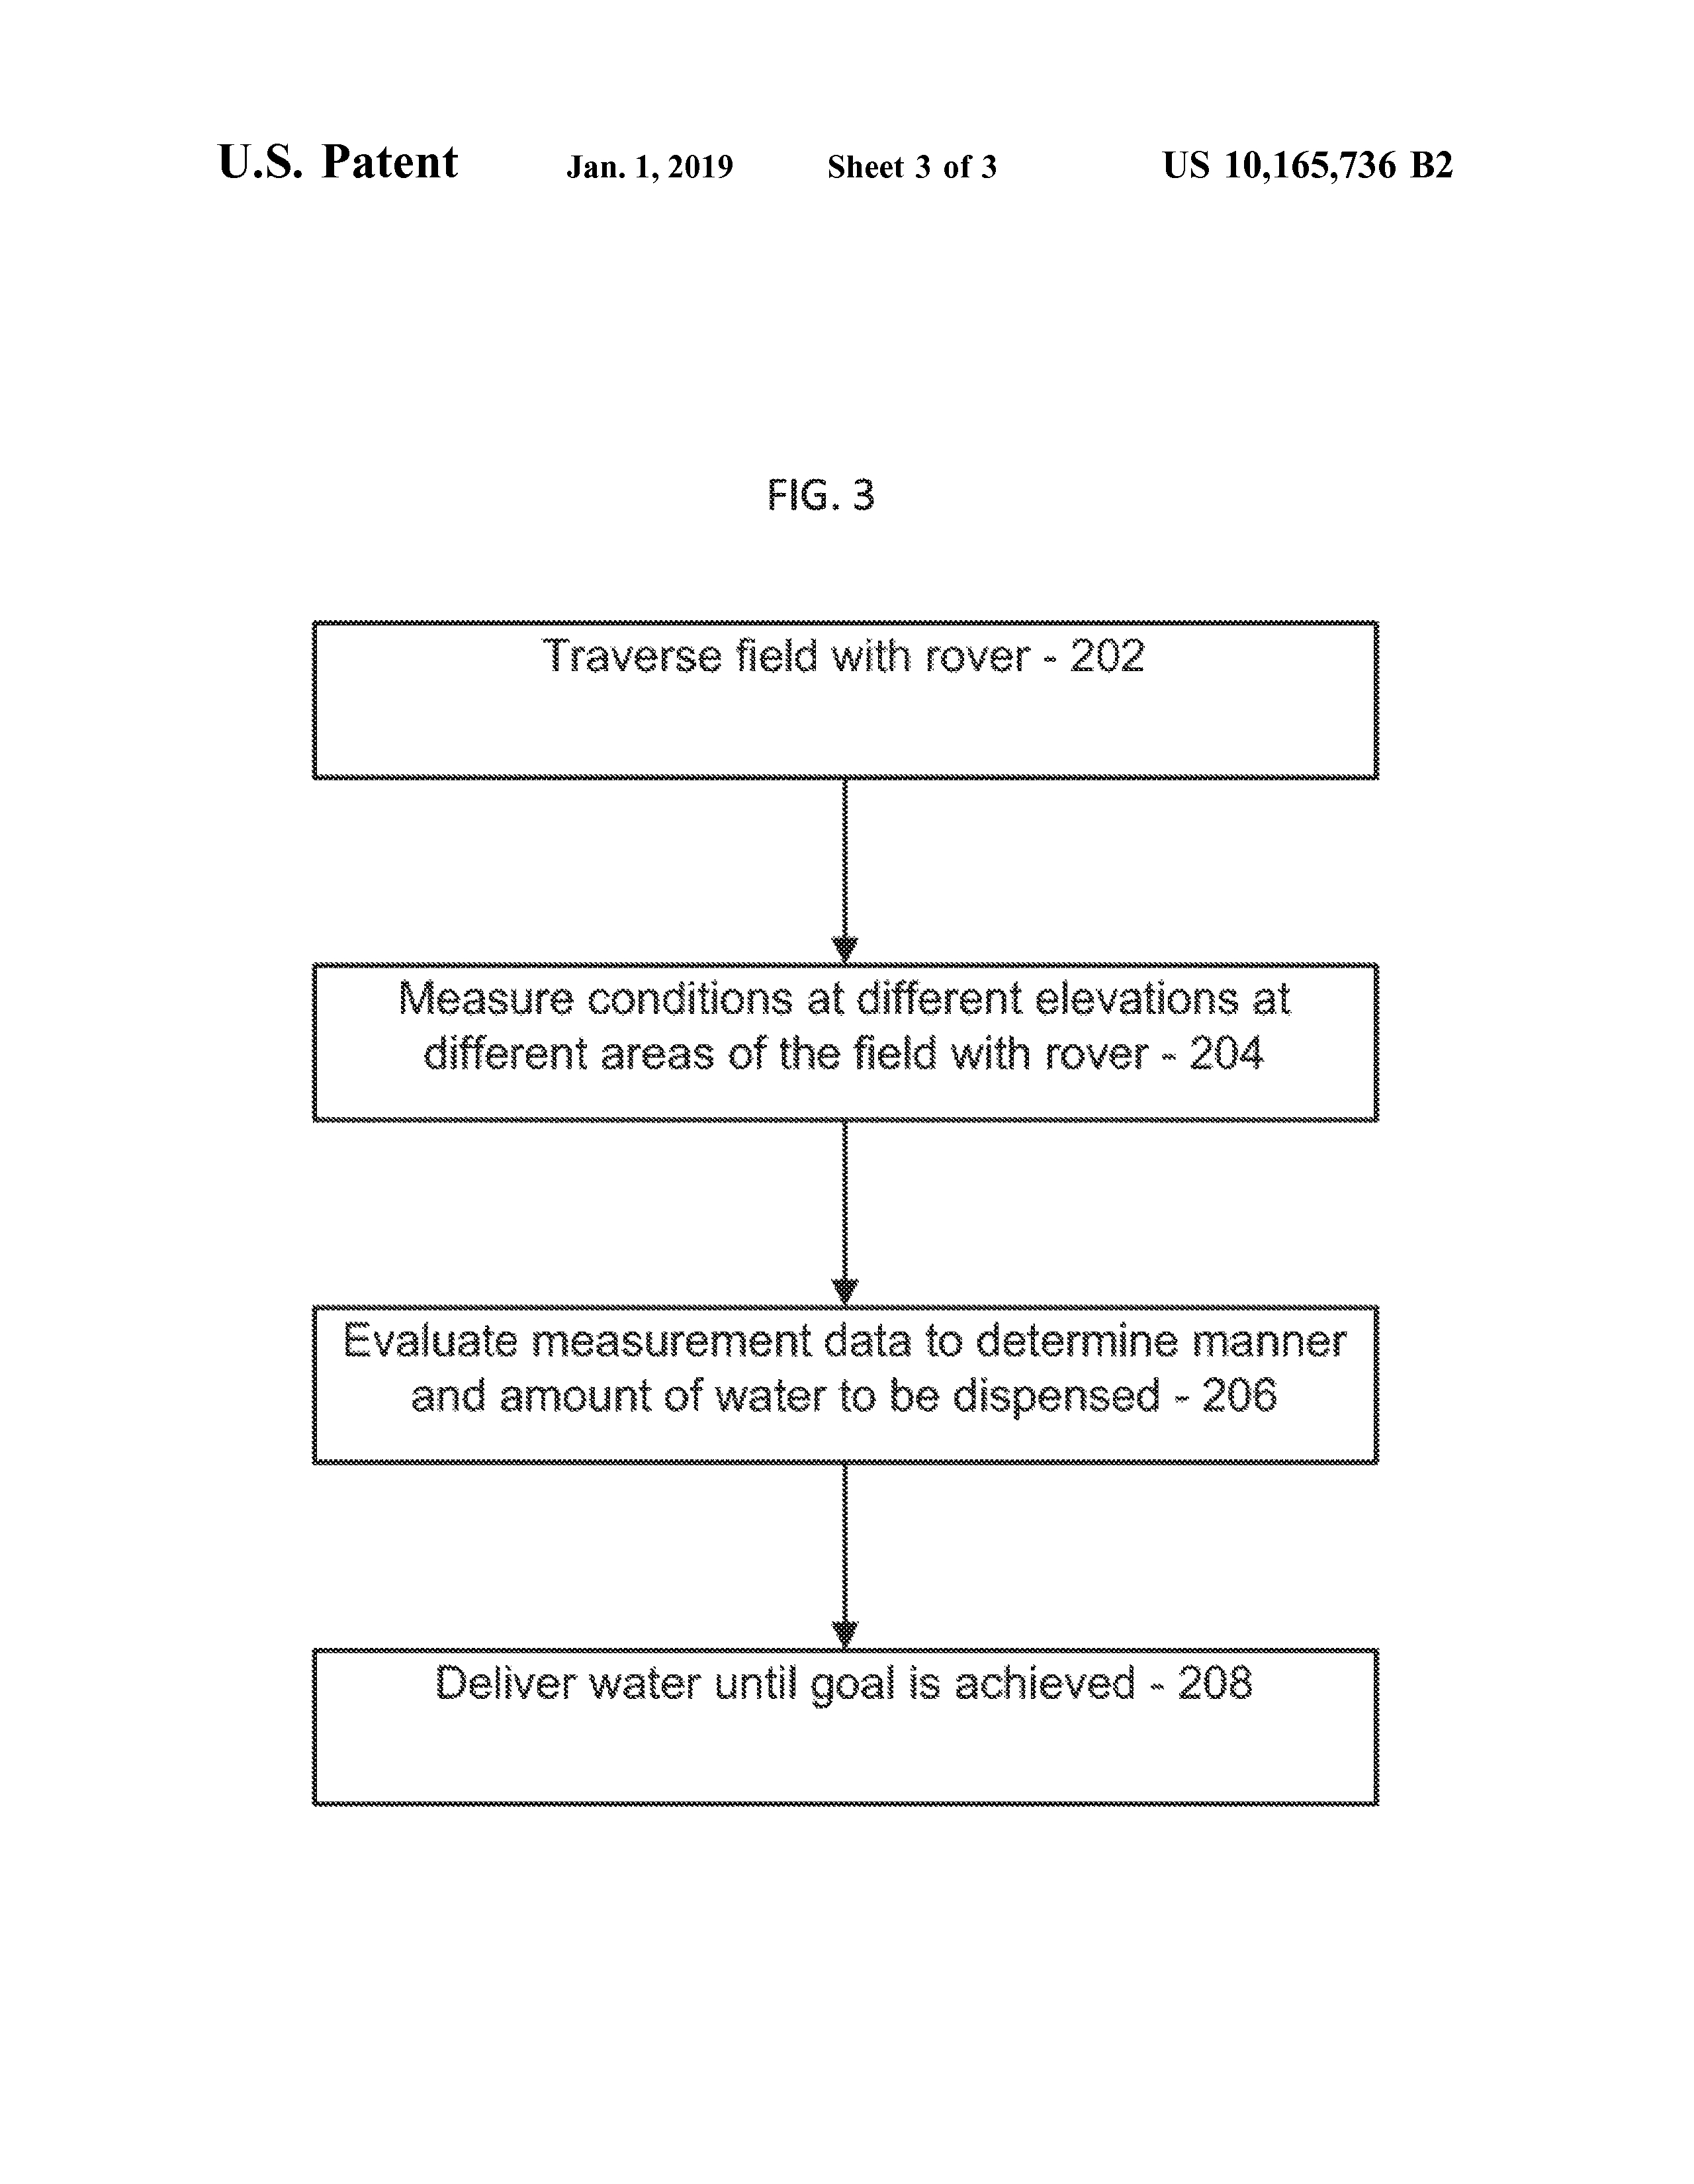patent image: (273, 408, 1449, 1873)
